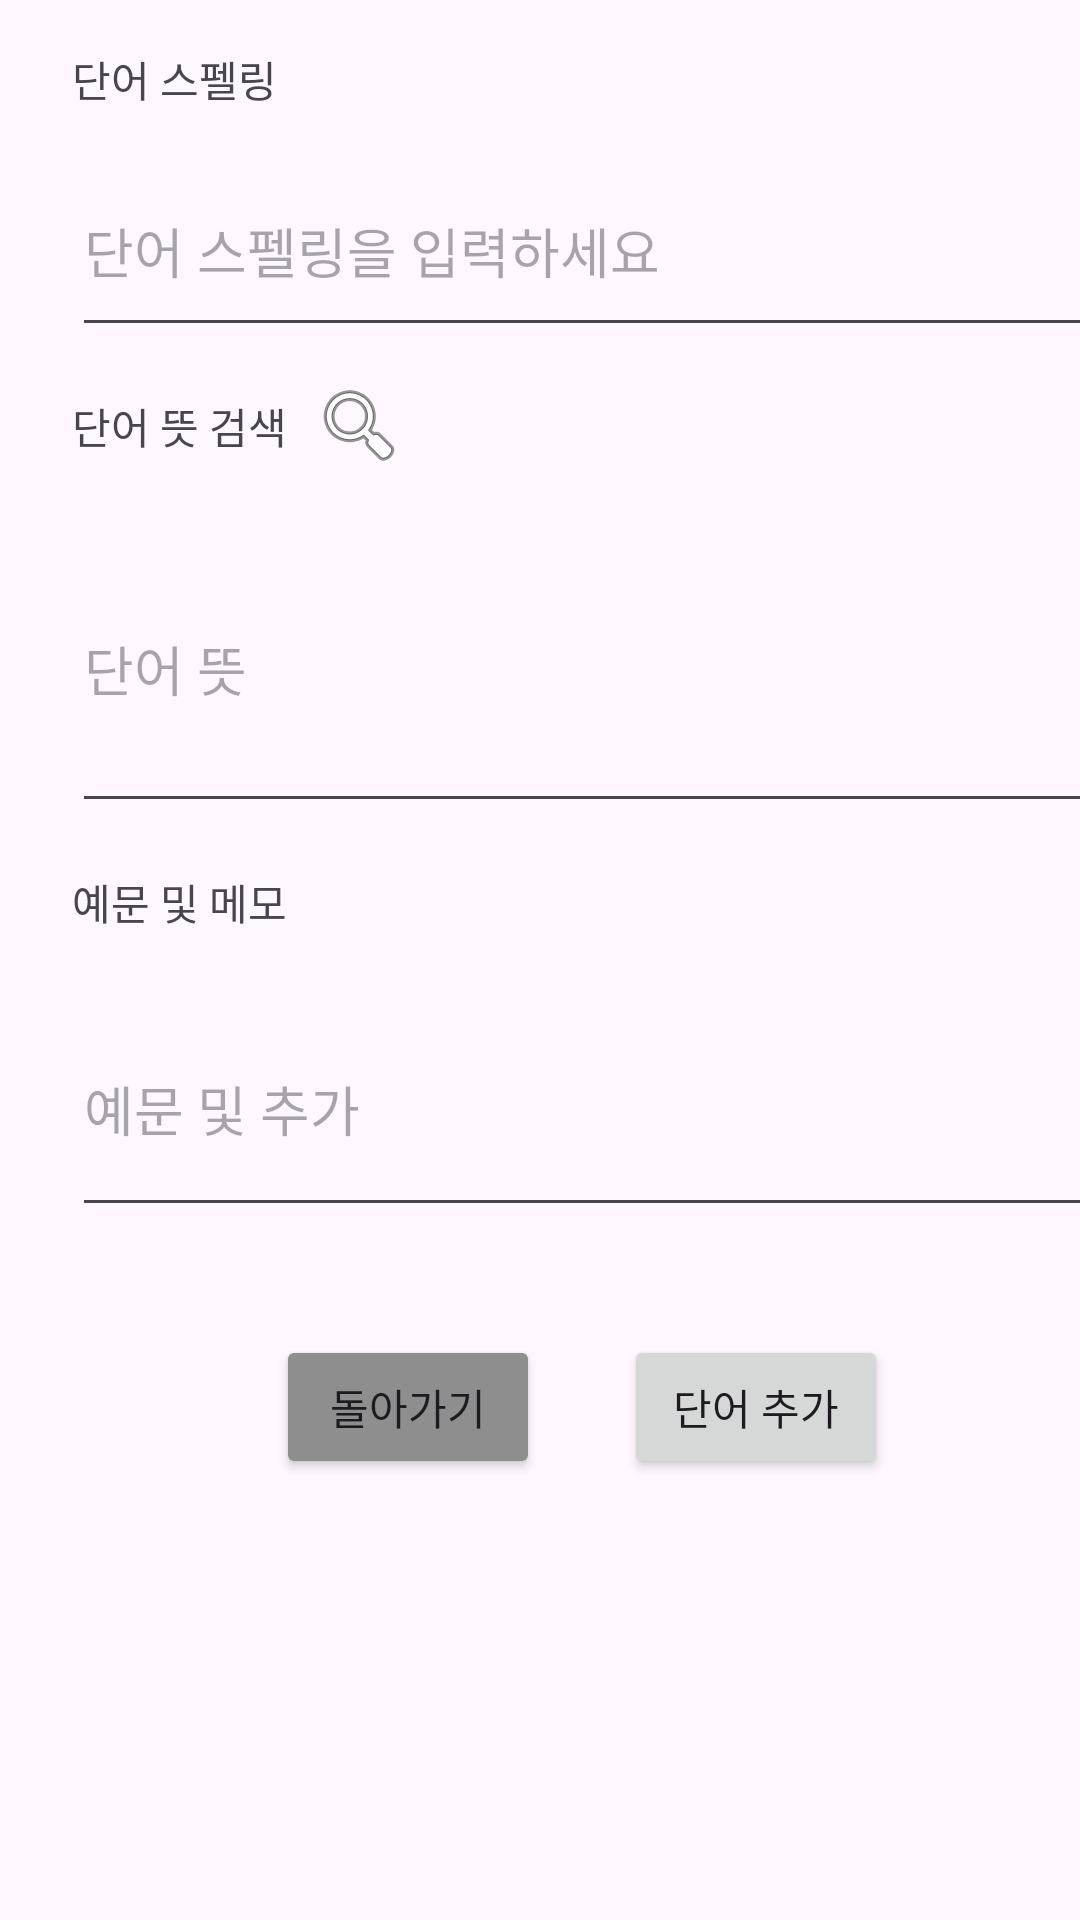

Locate icon controls on the screen. Image size 1080 x 1920, boxes as (x1, y1, x2, y2).
search: (323, 390, 395, 461)
